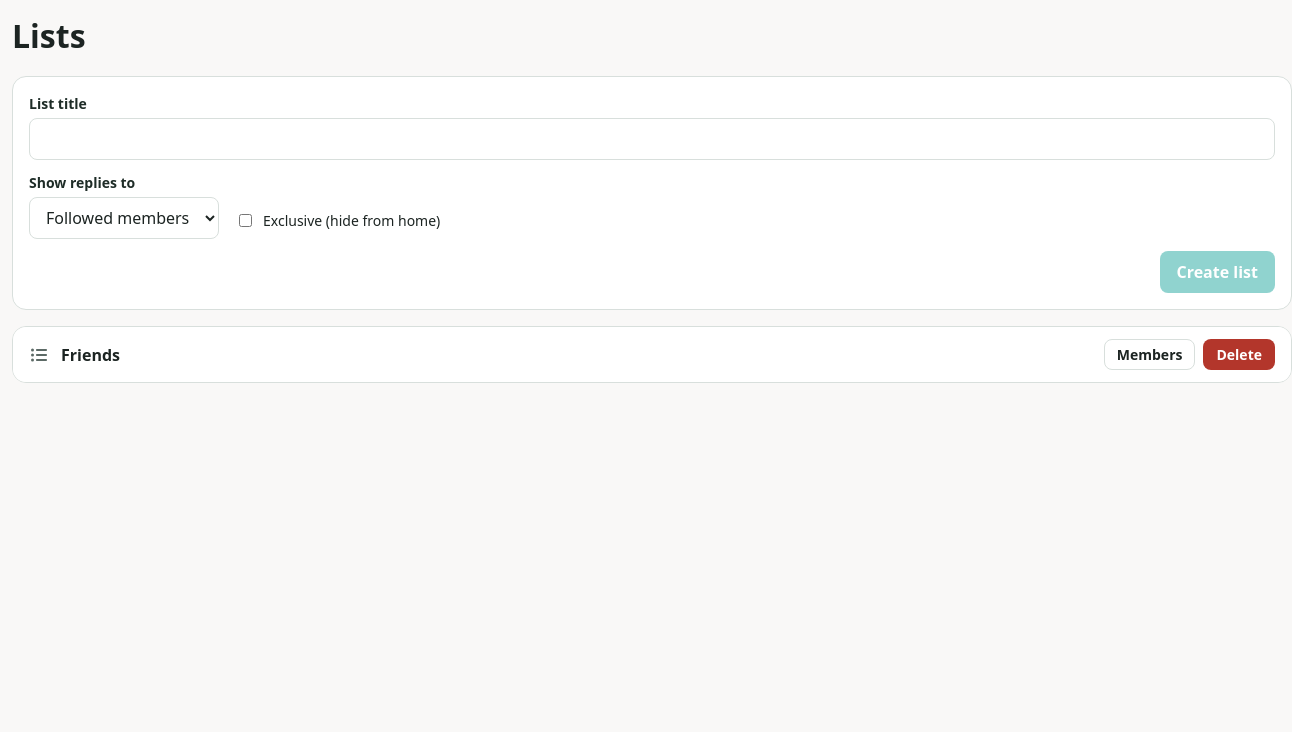
Test: ListsPage › expands members and removes one
This screenshot has width=1292, height=732.
Step 1. Click the button "Members" → coordinates (1150, 354), box [1104, 339, 1196, 370]
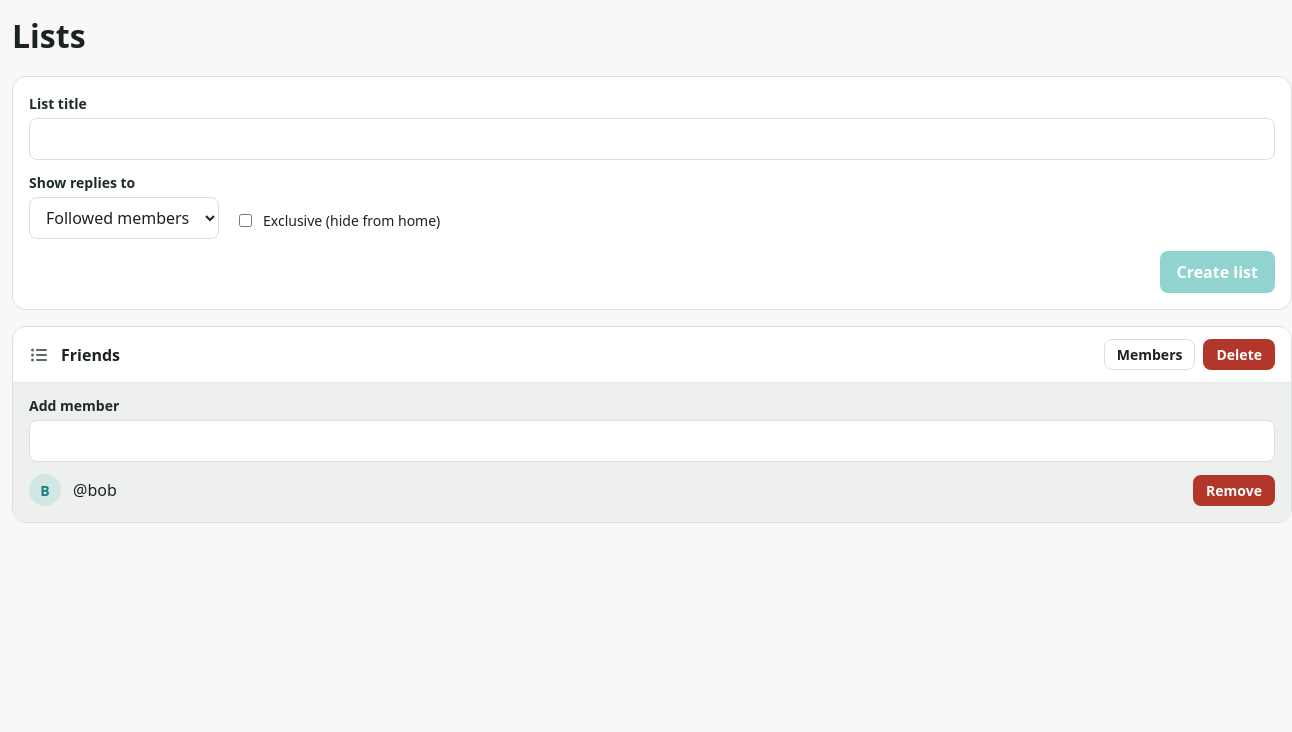
Now the text "@bob" is shown, box [73, 479, 117, 501]
Step 2. Click the button "Remove" → coordinates (1234, 490), box [1193, 474, 1275, 506]
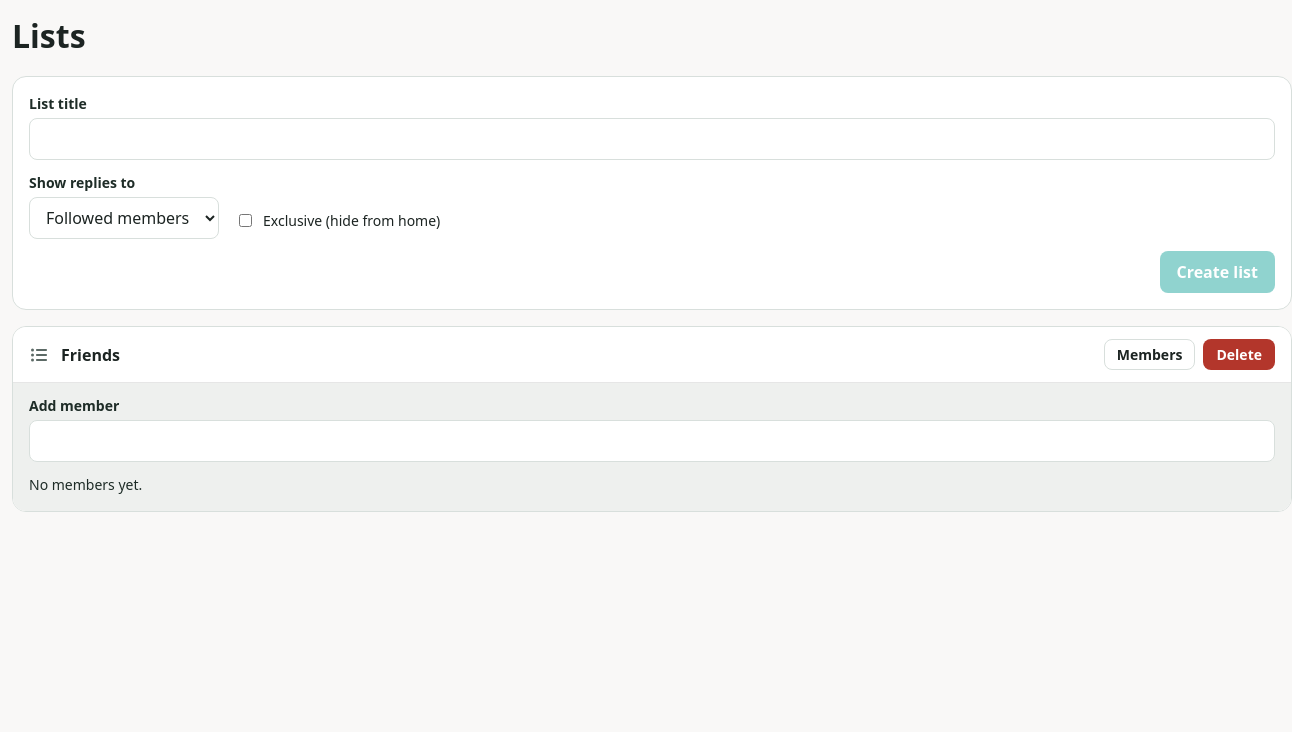
Now the text "@bob" is gone
